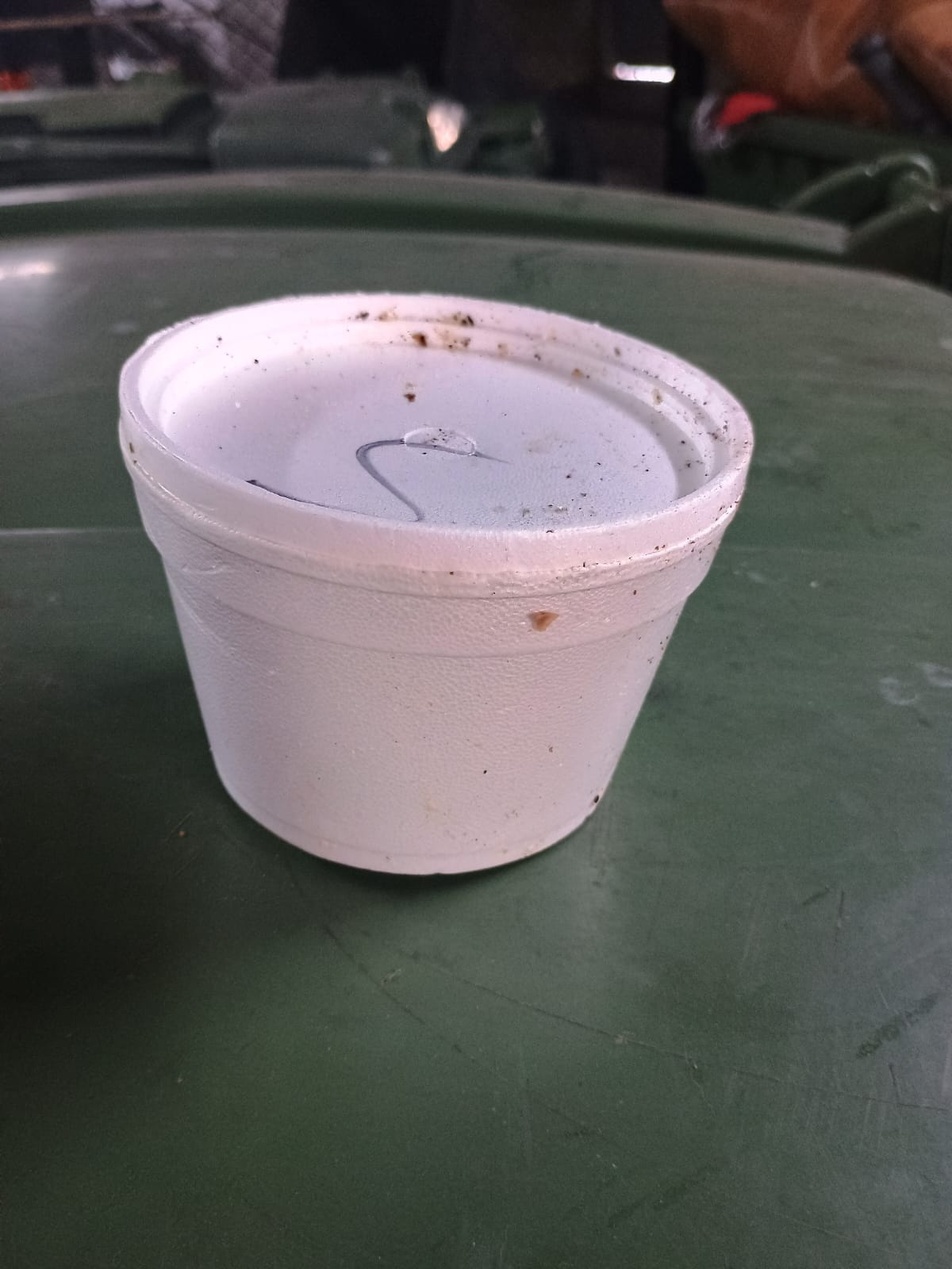Ordinario: (113, 288, 756, 881)
